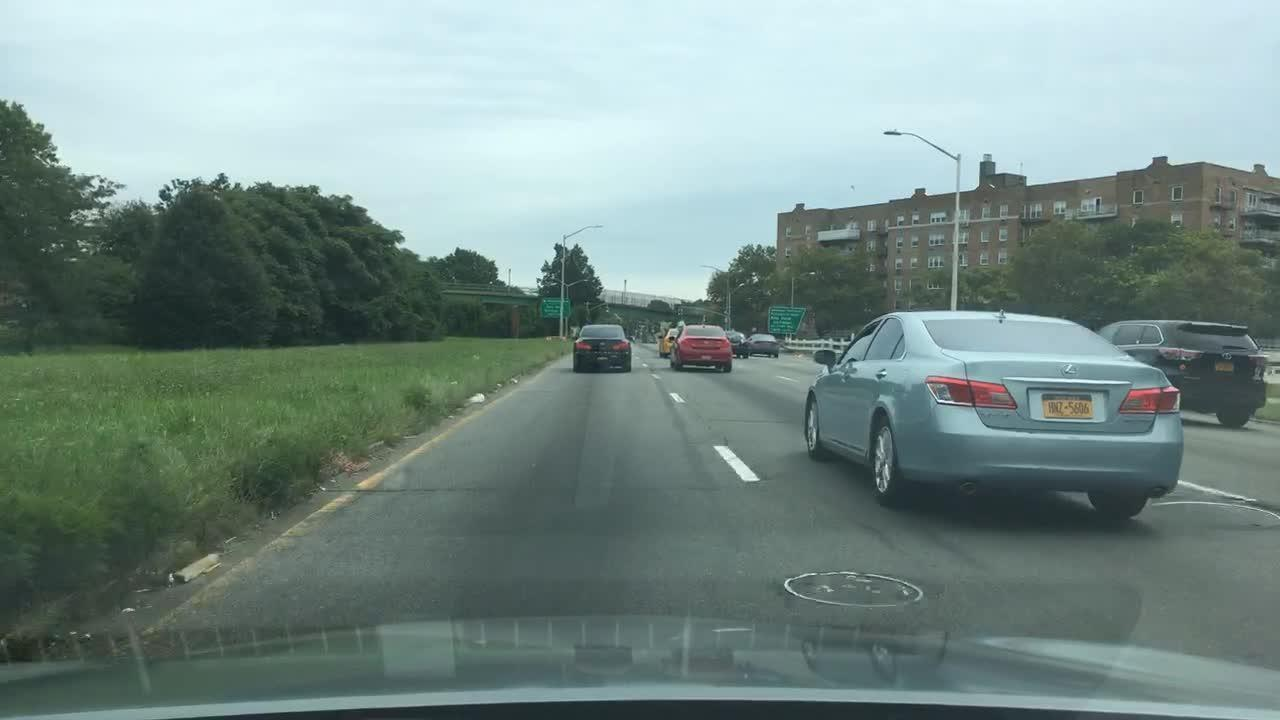lexus: (1054, 358, 1088, 385)
